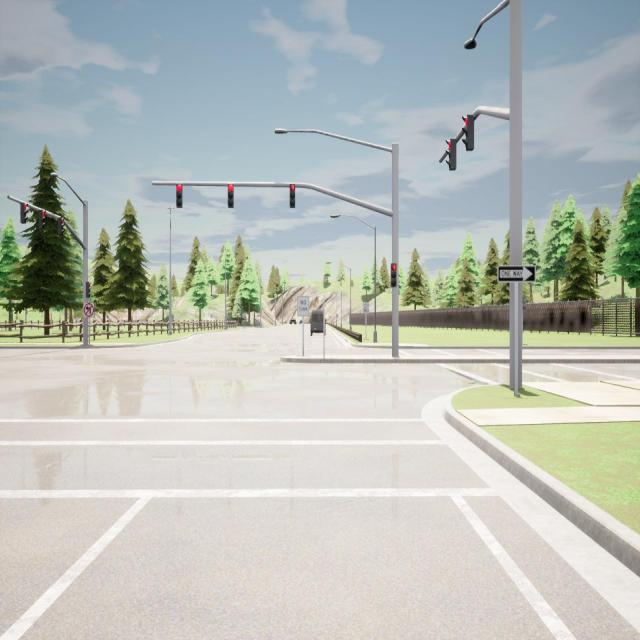Traffic_Signs: (498, 265, 536, 283), (297, 296, 309, 316), (84, 302, 95, 318), (363, 303, 370, 312)
Vehicle: (310, 309, 327, 335), (289, 317, 297, 325)
traffic_light: (462, 114, 474, 151), (444, 138, 456, 171), (176, 184, 183, 208), (21, 202, 28, 224), (38, 210, 46, 229), (228, 185, 234, 208), (290, 185, 296, 208), (391, 263, 396, 287), (58, 217, 64, 235), (86, 282, 92, 298)
